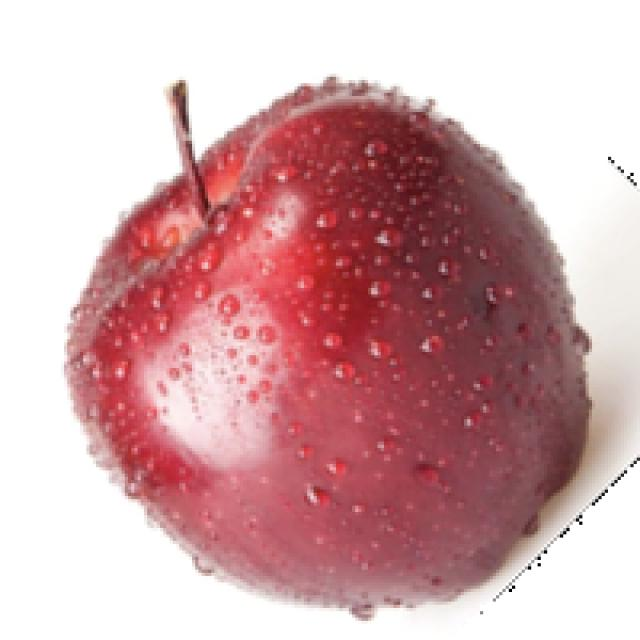apple: (58, 70, 637, 624)
